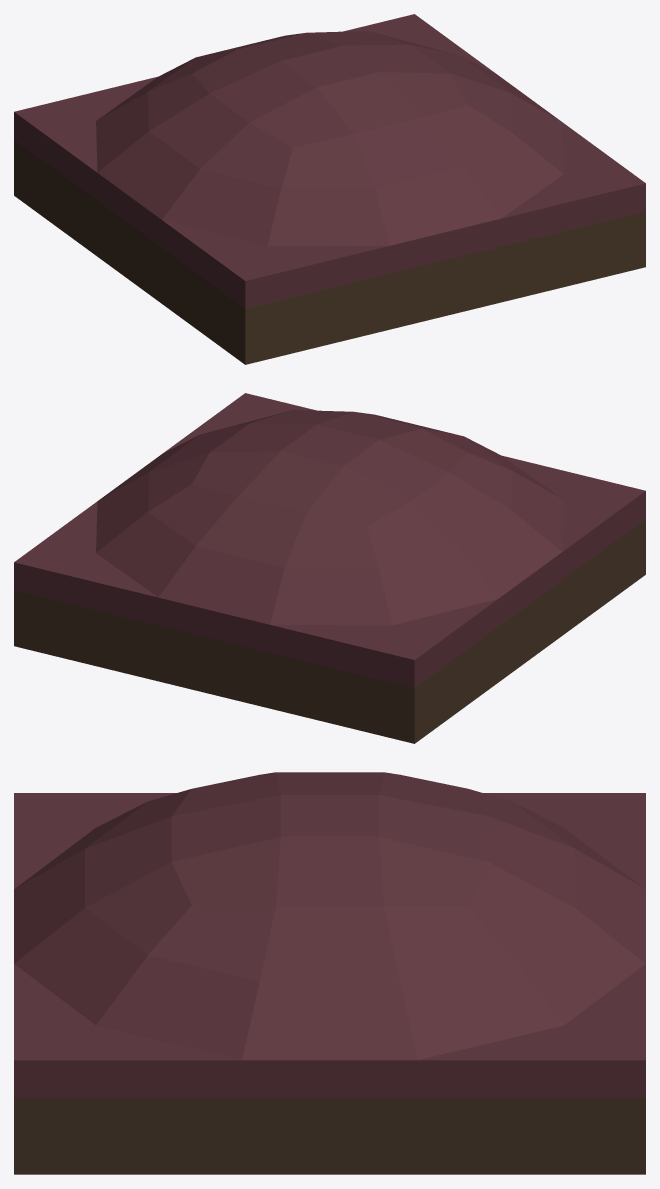
The model's file is tiles-tile-plain-hump.glb.
The picture shows the model from 3 angles, top to bottom: view 1: azimuth 30°, elevation 25°; view 2: azimuth 150°, elevation 25°; view 3: azimuth 270°, elevation 25°; orthographic projection. The views are drawn at different scales.
Visible parts, largest first — view 1: tile-plain-hump; view 2: tile-plain-hump; view 3: tile-plain-hump.
Boxes of the visible parts, x1,y1,x2,y2 form: tile-plain-hump: [14, 14, 645, 364]; tile-plain-hump: [14, 393, 645, 743]; tile-plain-hump: [14, 772, 645, 1174].
Size of the model in its own units: 30 by 11.8 by 30.
